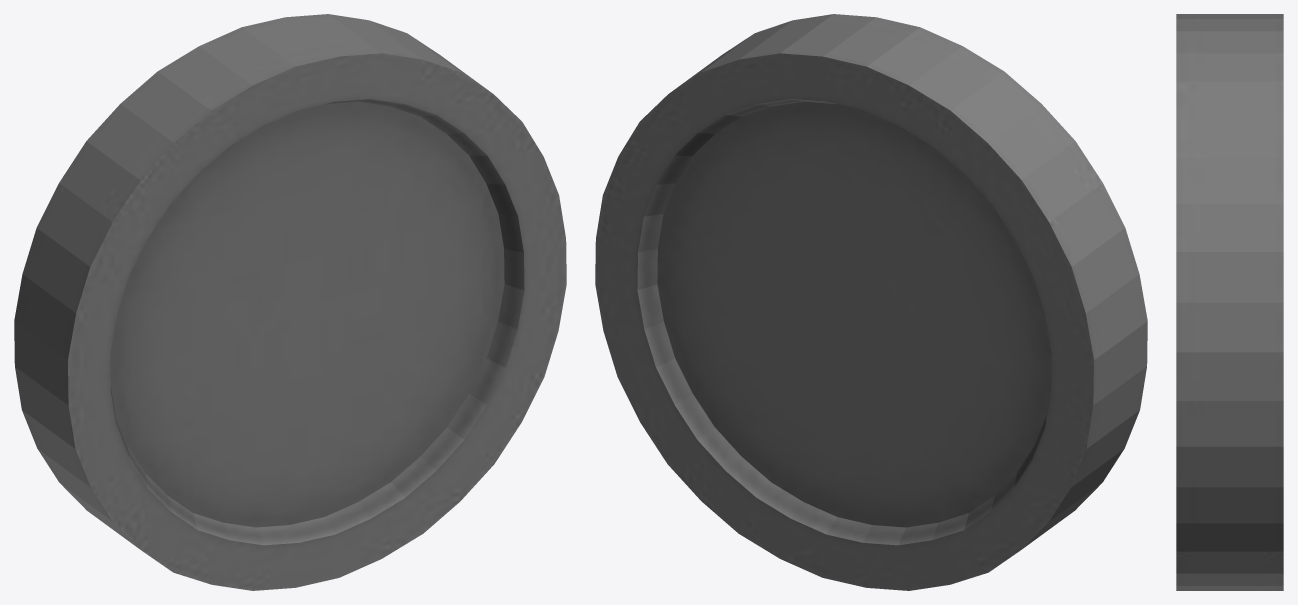
File: checker.glb
3 renders of one model, left to right at view 1: azimuth 30°, elevation 25°; view 2: azimuth 150°, elevation 25°; view 3: azimuth 270°, elevation 25°, orthographic.
Visible parts, largest first — view 1: checker.obj; view 2: checker.obj; view 3: checker.obj.
Boxes of the visible parts, <box> form: checker.obj: <box>14,14,566,590</box>; checker.obj: <box>595,14,1147,590</box>; checker.obj: <box>1176,14,1283,590</box>.
Bounding box in the file's own units: 1 × 0.9999 × 0.1865.
1 material, 1 textured.
